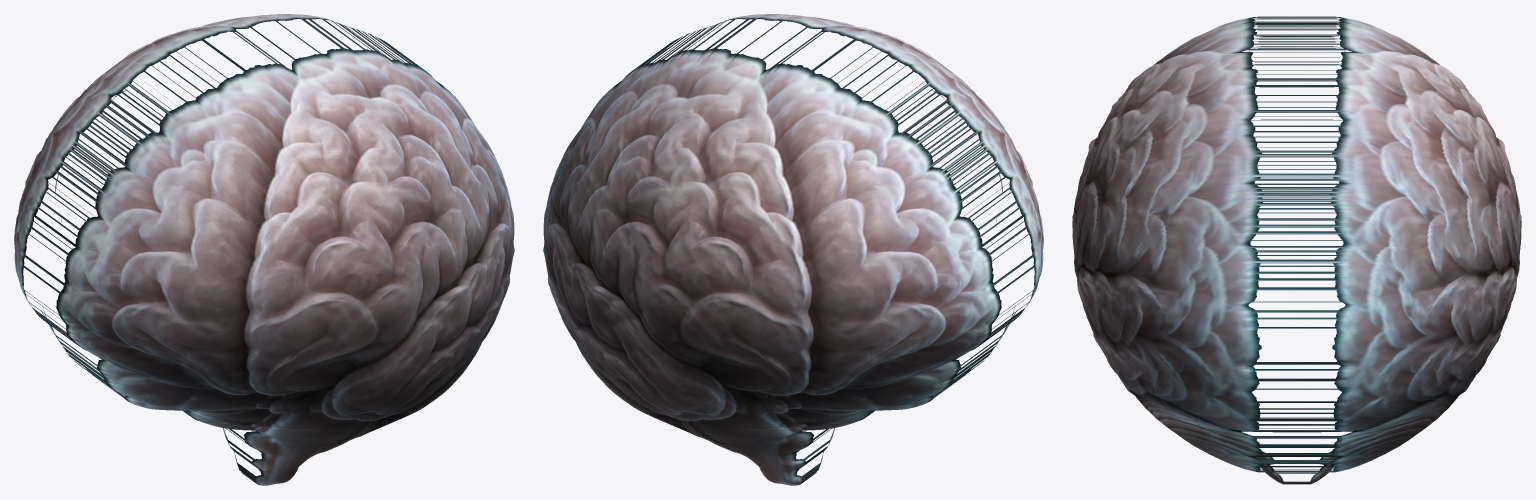
File: image-brain.glb
3 views of the same model, side by side, from view 1: azimuth 30°, elevation 25°; view 2: azimuth 150°, elevation 25°; view 3: azimuth 270°, elevation 25° (orthographic).
Visible parts, largest first — view 1: brain; view 2: brain; view 3: brain.
Boxes of the visible parts, x1=… form: brain: x1=14, y1=14, x2=514, y2=485; brain: x1=543, y1=14, x2=1043, y2=485; brain: x1=1072, y1=16, x2=1521, y2=484.
Bounding box in the file's own units: 2 × 1.88 × 1.77.
Materials: 1 (1 with a texture image).
